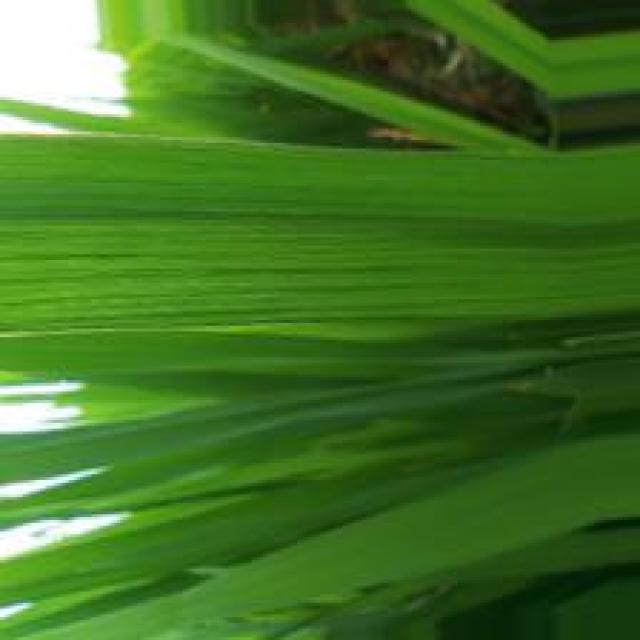HealthyLeaf: (0, 137, 575, 328), (272, 450, 595, 597)
